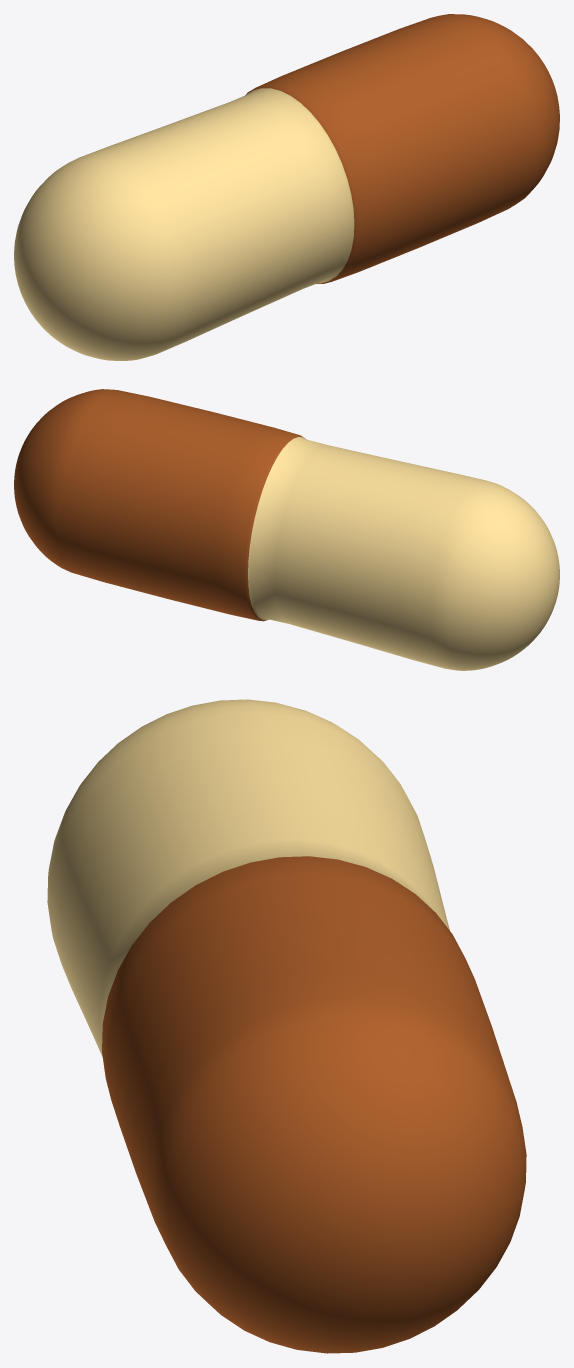
File: gold_V2.glb
3 views of the same model, one above another, from view 1: azimuth 30°, elevation 25°; view 2: azimuth 150°, elevation 25°; view 3: azimuth 270°, elevation 25° (orthographic). The views are drawn at different scales.
Visible parts, largest first — view 1: capsule.001; view 2: capsule.001; view 3: capsule.001.
Part boxes in pixels (x1,y1,x2,y2): capsule.001: (14,14,559,360); capsule.001: (14,389,559,670); capsule.001: (47,699,526,1353).
Bounding box in the file's own units: 2.44 × 0.9356 × 1.02.
2 materials, 1 textured.
